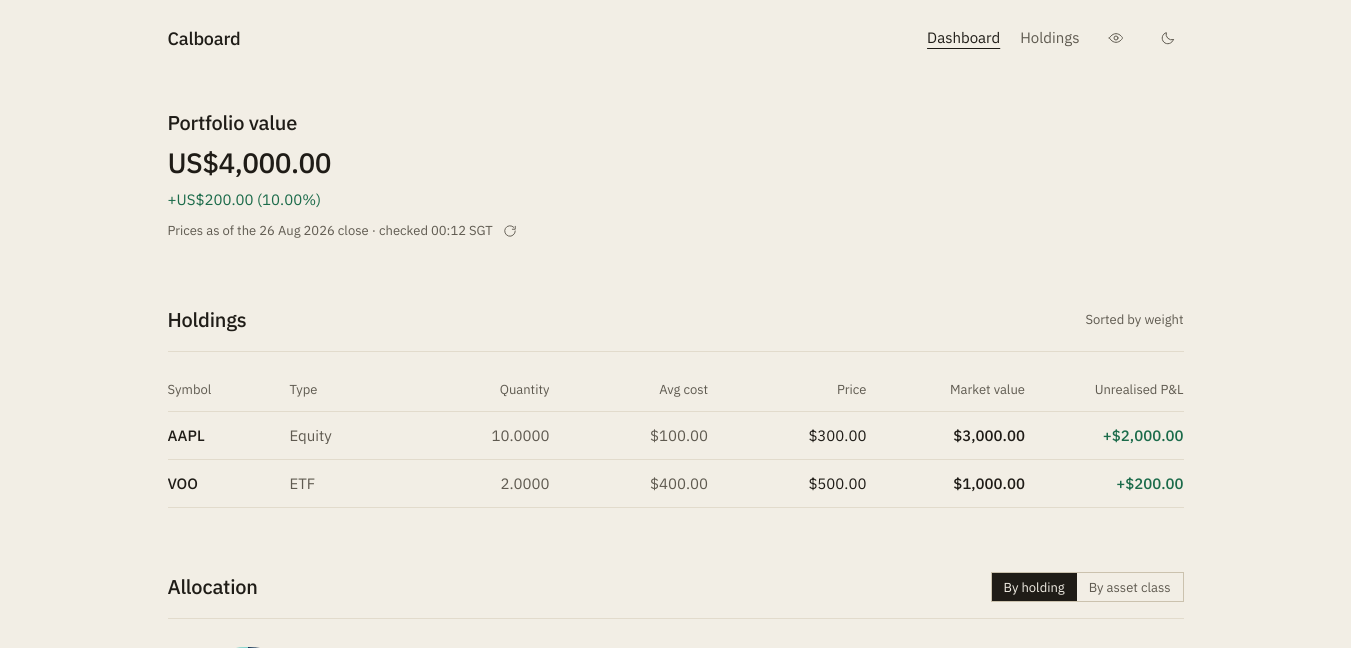
Test case: Dashboard — M1.5: privacy toggle › toggling back off restores every value
Click the button named "hide values": (1116, 38) [1100,24,1132,52]
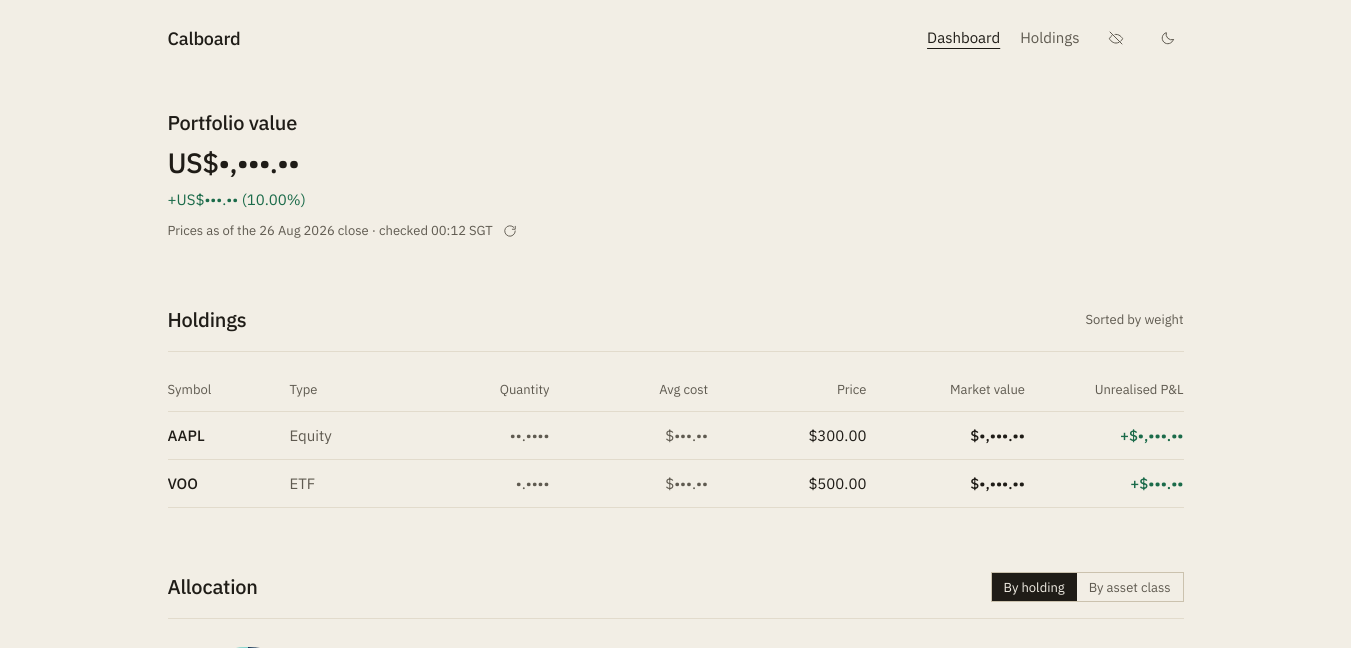
Click the button named "show values": (1116, 38) [1100,24,1132,52]
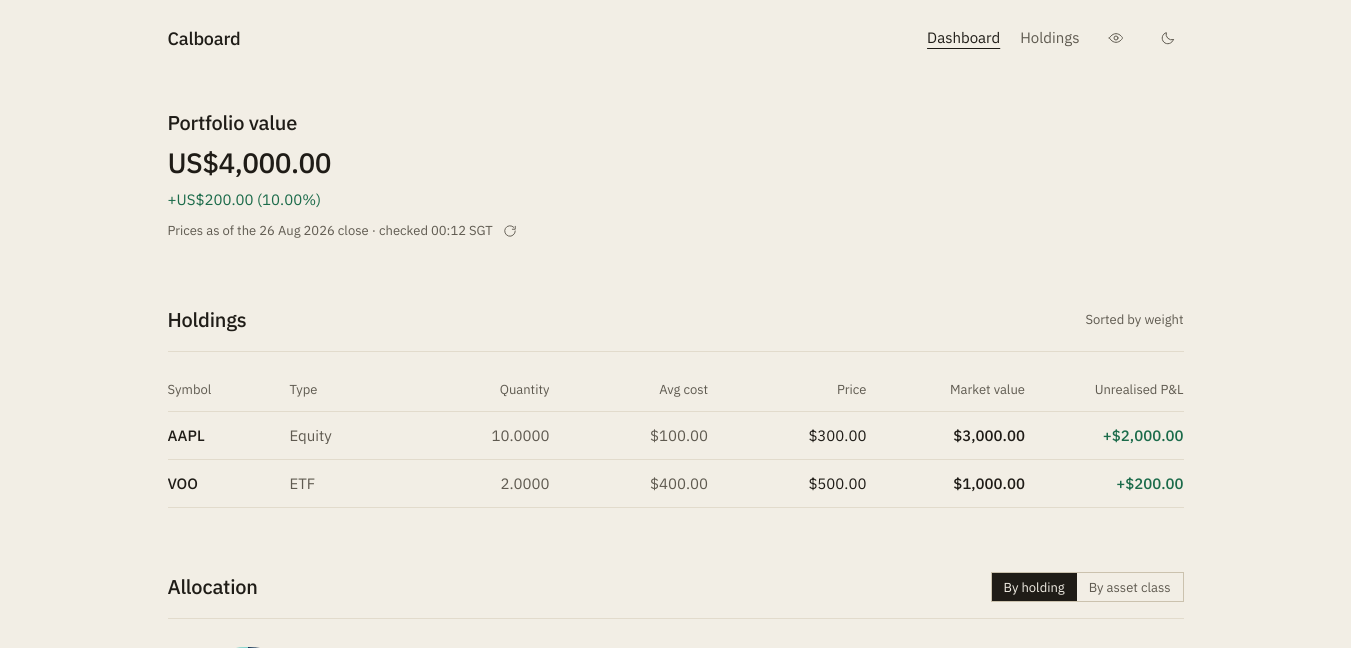
Expected: the element that starts with "Portfolio value" shows "US$4,000.00", [168,109,517,239]
Expected: the text "•" is gone
